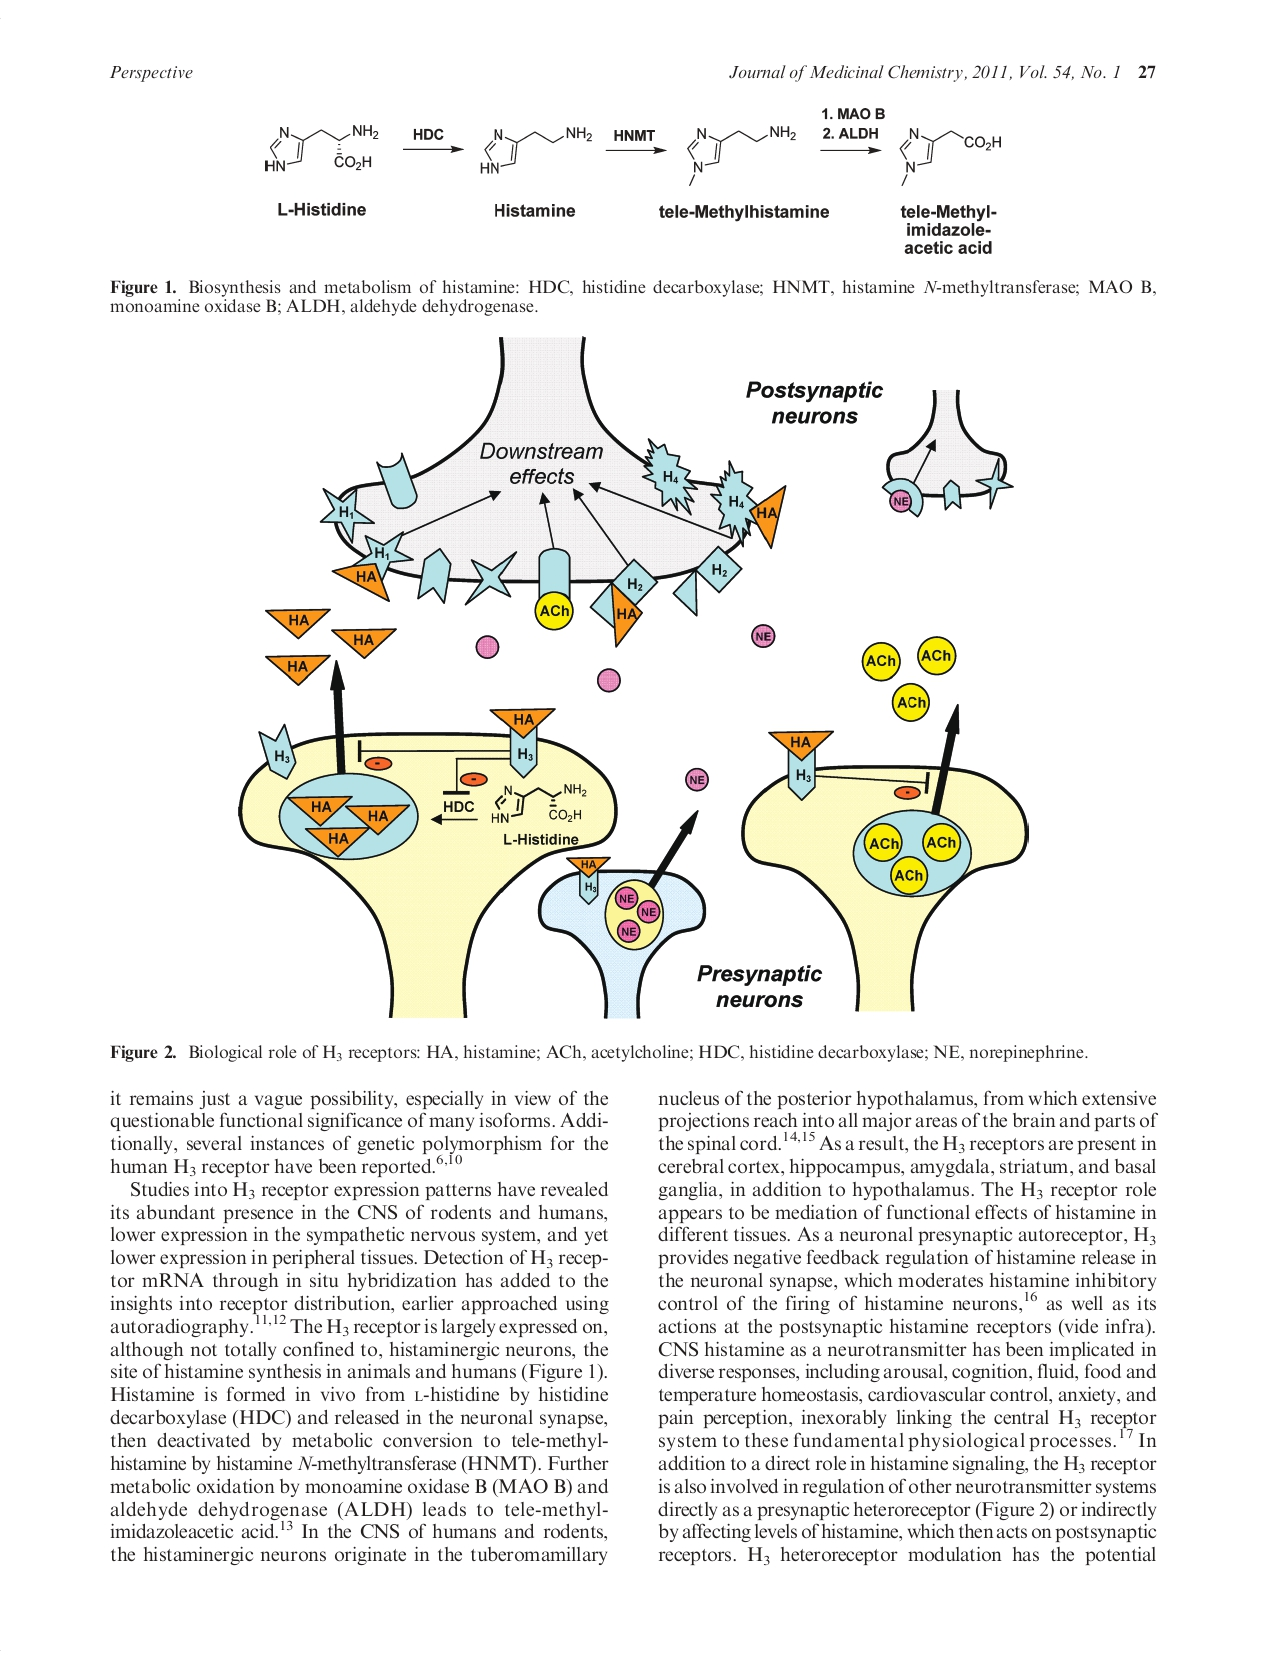exist_molecular: (684, 122, 801, 186), (261, 121, 382, 178), (898, 125, 1005, 189), (475, 122, 594, 180), (489, 783, 594, 829)
